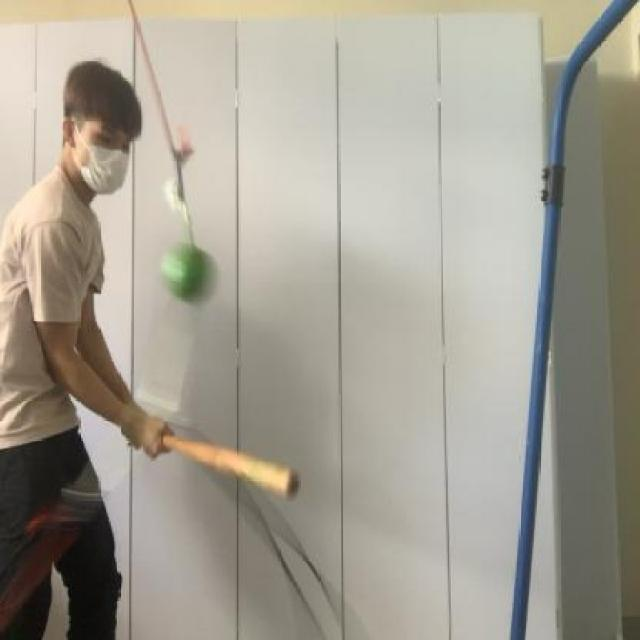baseball: (155, 236, 222, 312)
